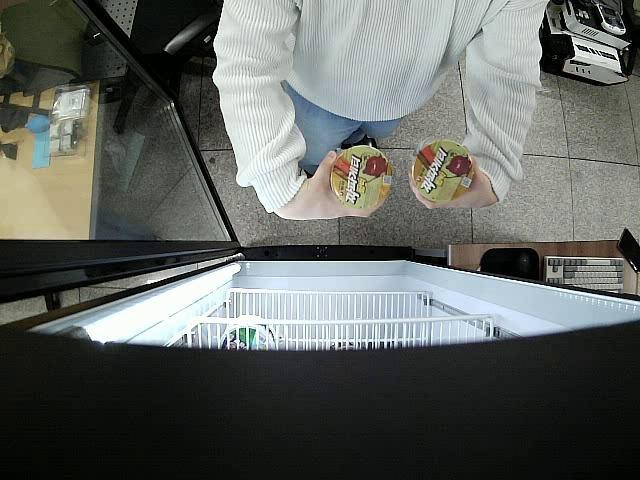04_chapagetti_S: (331, 144, 393, 210), (412, 139, 473, 203)
